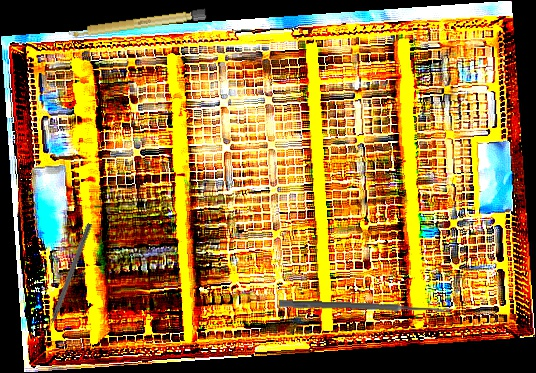Pusher: (41, 222, 93, 341)
Scalpel Handle: (66, 8, 208, 39)
Surgical Spoon: (278, 300, 452, 314)
